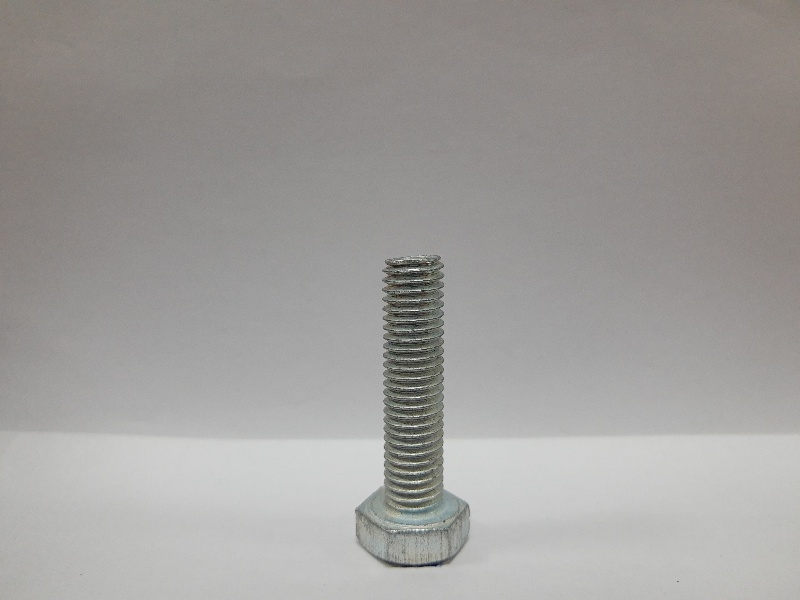pf: (351, 249, 478, 568)
